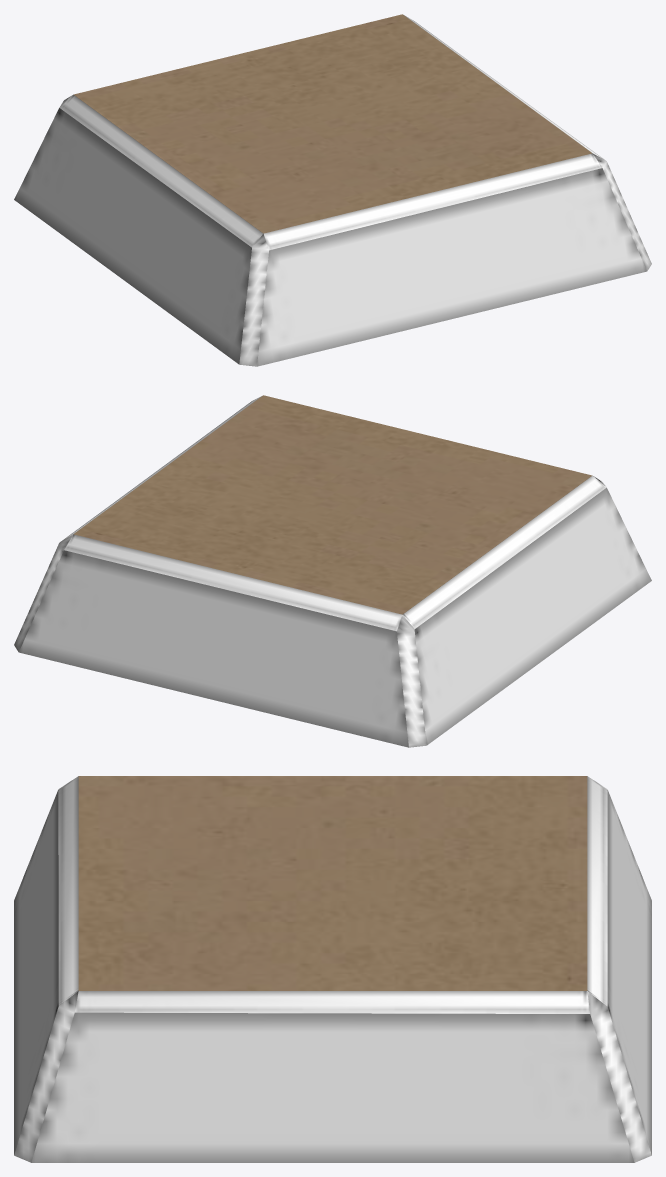
File: Base_Tile.fbx
3 views of the same model, one above another, from view 1: azimuth 30°, elevation 25°; view 2: azimuth 150°, elevation 25°; view 3: azimuth 270°, elevation 25° (orthographic). The views are drawn at different scales.
Parts seen in each view (by area): view 1: pCube1; view 2: pCube1; view 3: pCube1.
Part boxes in pixels (box(x1,y1,x2,y2)): pCube1: box(14, 14, 651, 366); pCube1: box(14, 395, 651, 747); pCube1: box(14, 776, 651, 1162).
Bounding box in the file's own units: 2 × 0.5 × 2.
